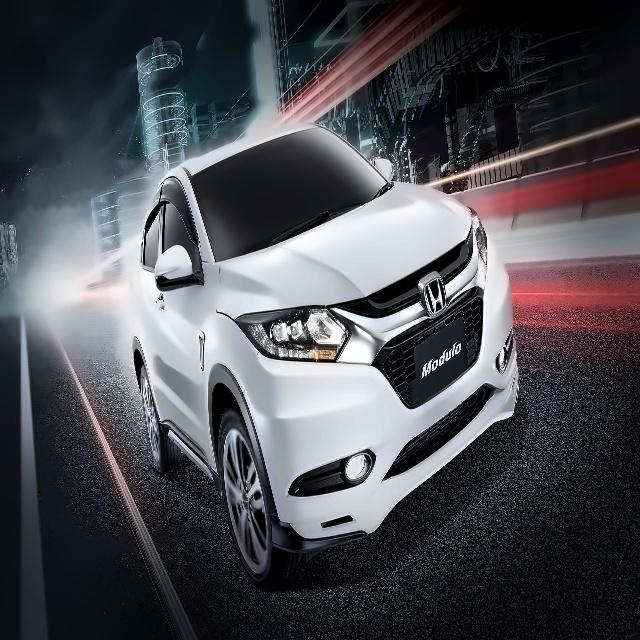Car hood: (214, 187, 473, 311)
Driver-s door - -F-R-: (153, 164, 221, 503)
Fender - -F-R-: (194, 266, 259, 480)
Front bumper: (243, 243, 529, 559)
Headlight - -L-: (469, 206, 489, 288)
Headlight - -R-: (237, 306, 351, 363)
Side bumper - -R-: (157, 413, 231, 499)
Side mirror - -L-: (368, 154, 396, 183)
Side mirror - -R-: (156, 245, 206, 294)
